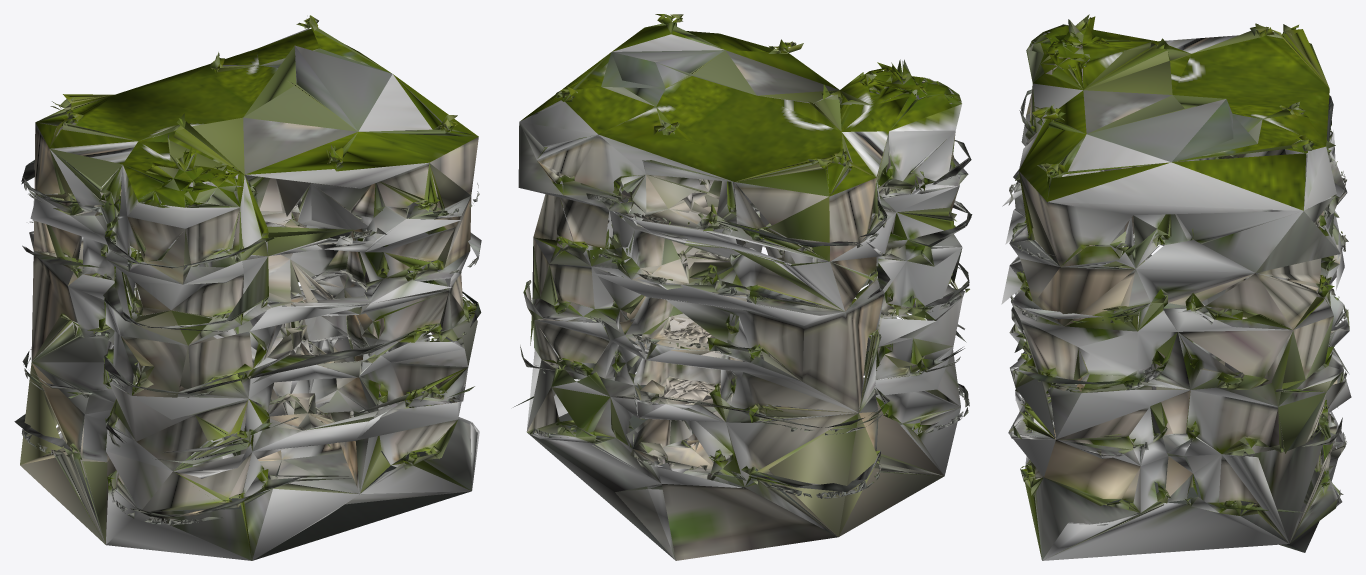
Rendered from Worldfe4fdca1c3.glb.
3 renders of one model, left to right at view 1: azimuth 30°, elevation 25°; view 2: azimuth 150°, elevation 25°; view 3: azimuth 270°, elevation 25°, orthographic. The views are drawn at different scales.
Visible parts, largest first — view 1: Worldfe4fdca1c3; view 2: Worldfe4fdca1c3; view 3: Worldfe4fdca1c3.
Boxes of the visible parts, x1,y1,x2,y2 form: Worldfe4fdca1c3: [14, 15, 481, 560]; Worldfe4fdca1c3: [513, 14, 972, 560]; Worldfe4fdca1c3: [1001, 14, 1351, 560].
Bounding box in the file's own units: 5.66 × 7 × 4.59.
Materials: 1 (1 with a texture image).
